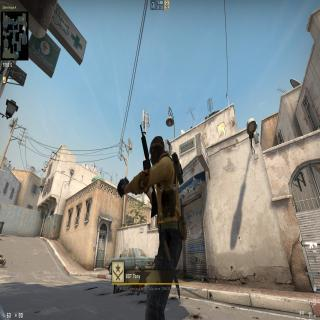T-Head: (149, 131, 167, 166)
